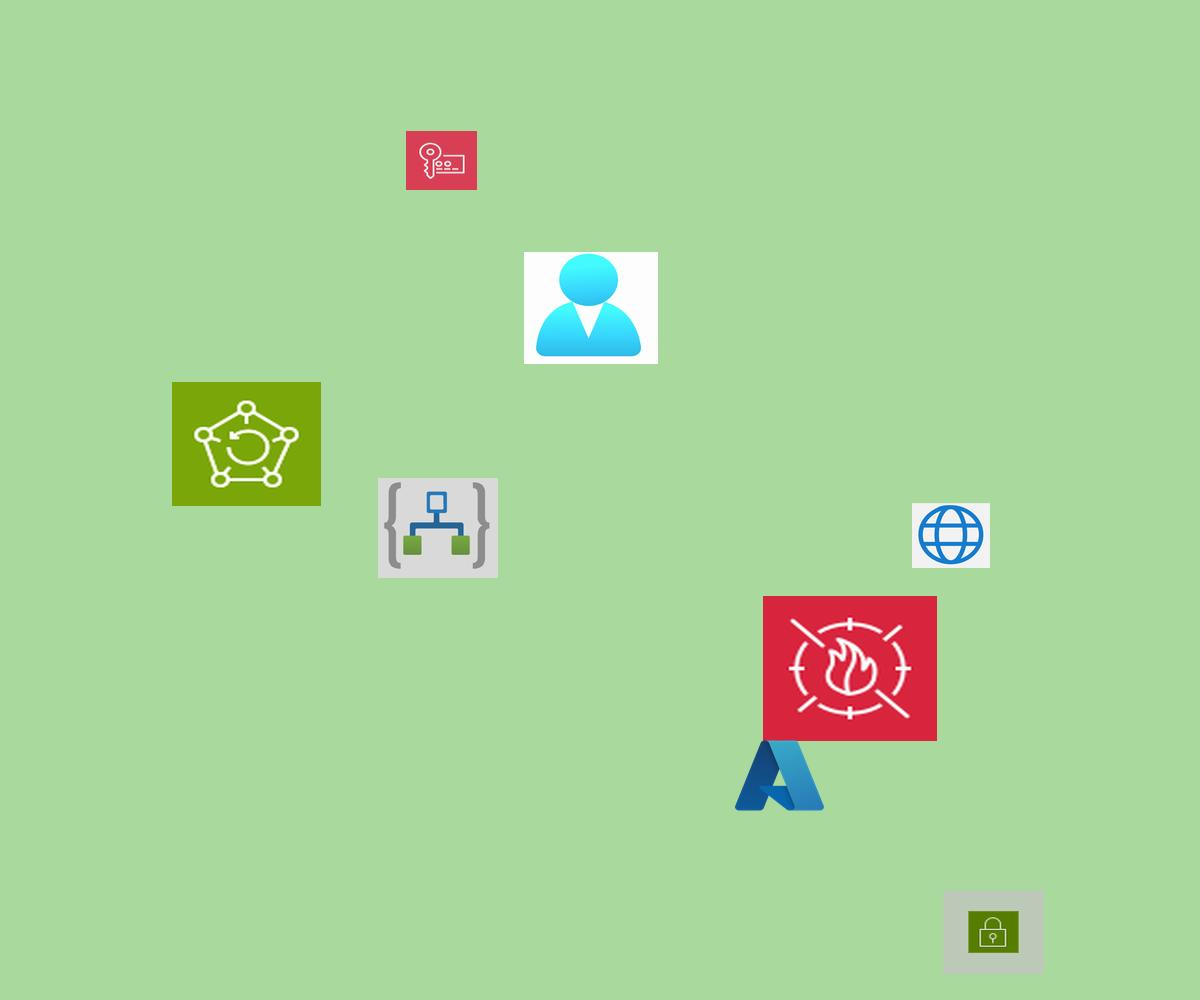AWS-Backup: (172, 382, 321, 506)
AWS-Key-Management-Service: (406, 131, 477, 190)
AWS-Public-subnet: (943, 890, 1044, 974)
AWS-WAF: (763, 596, 937, 741)
Azure_http: (912, 503, 990, 568)
Azure_integration-204-Logic-Apps: (378, 478, 498, 578)
Azure_services: (731, 735, 828, 816)
Azure_users: (524, 252, 658, 364)
